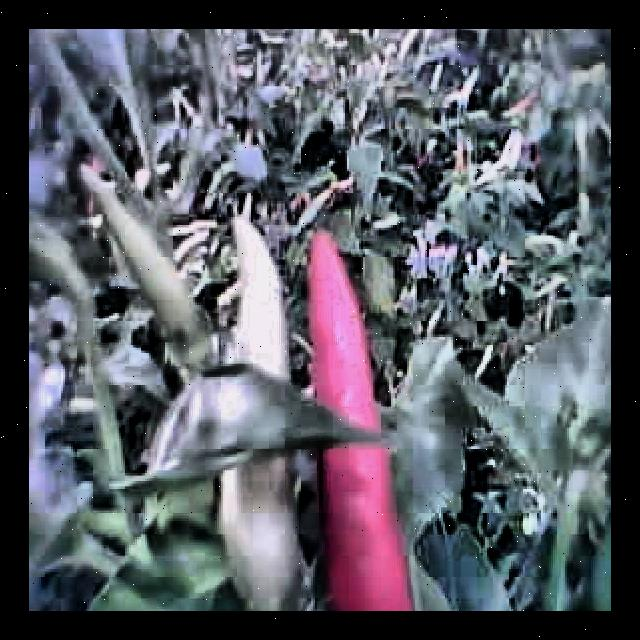Cabai: (309, 241, 419, 611)
